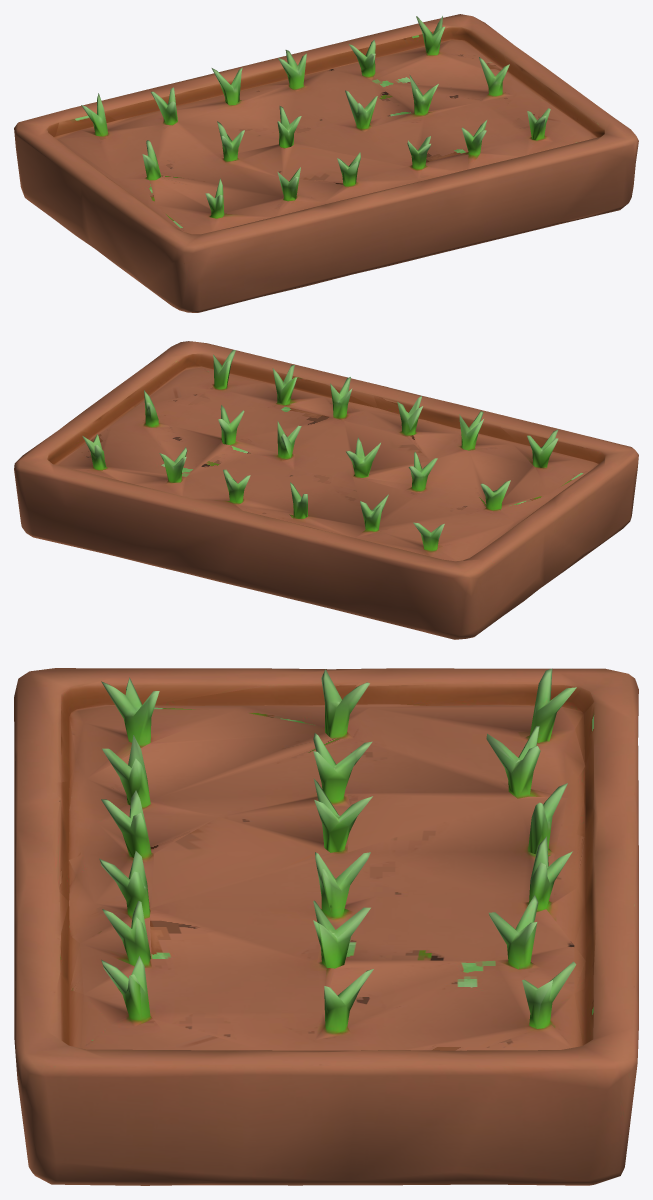
Rendered from field.glb.
3 renders of one model, top to bottom at view 1: azimuth 30°, elevation 25°; view 2: azimuth 150°, elevation 25°; view 3: azimuth 270°, elevation 25°, orthographic. The views are drawn at different scales.
Parts seen in each view (by area): view 1: Mesh; view 2: Mesh; view 3: Mesh.
Boxes of the visible parts, x1,y1,x2,y2 form: Mesh: (14, 14, 638, 312); Mesh: (14, 341, 638, 639); Mesh: (14, 668, 638, 1185).
Bounding box in the file's own units: 0.04 × 0.0081 × 0.0263.
1 material, 1 textured.
